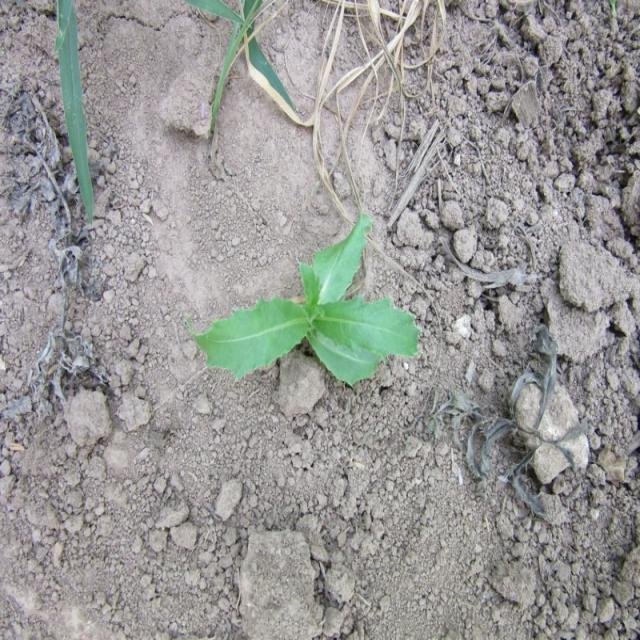field_thistle: (180, 188, 453, 404)
